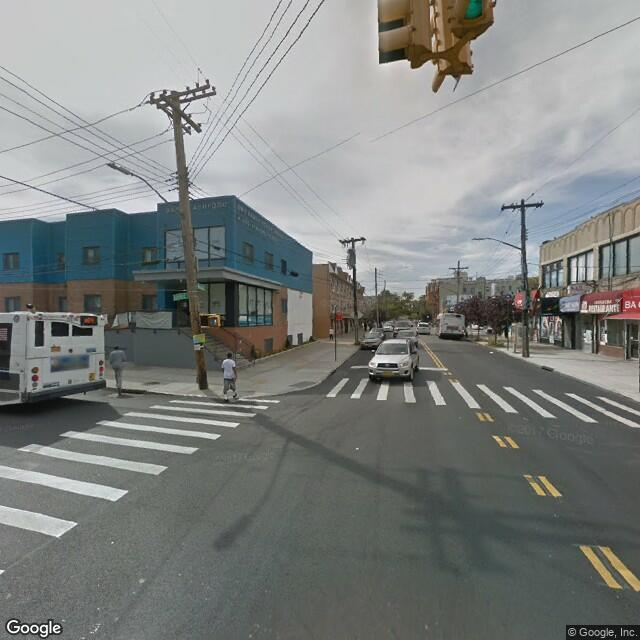litter: (111, 540, 115, 544), (356, 446, 361, 449), (490, 350, 495, 352)
